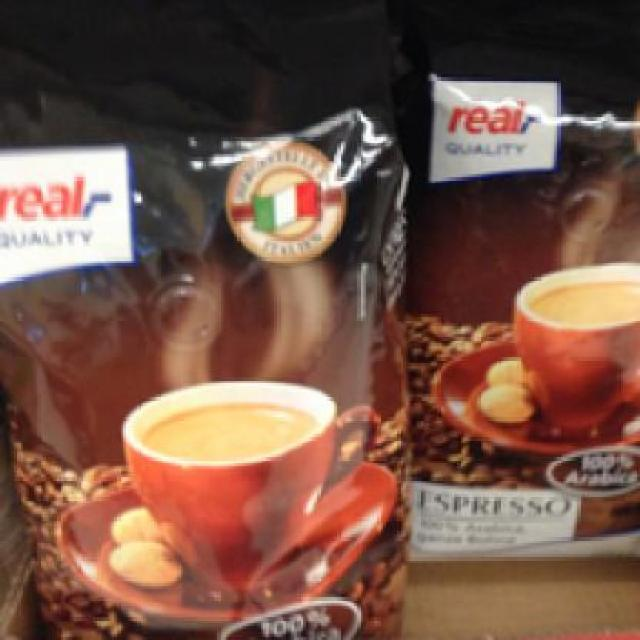Coffee: (0, 90, 415, 638), (386, 31, 637, 564)
